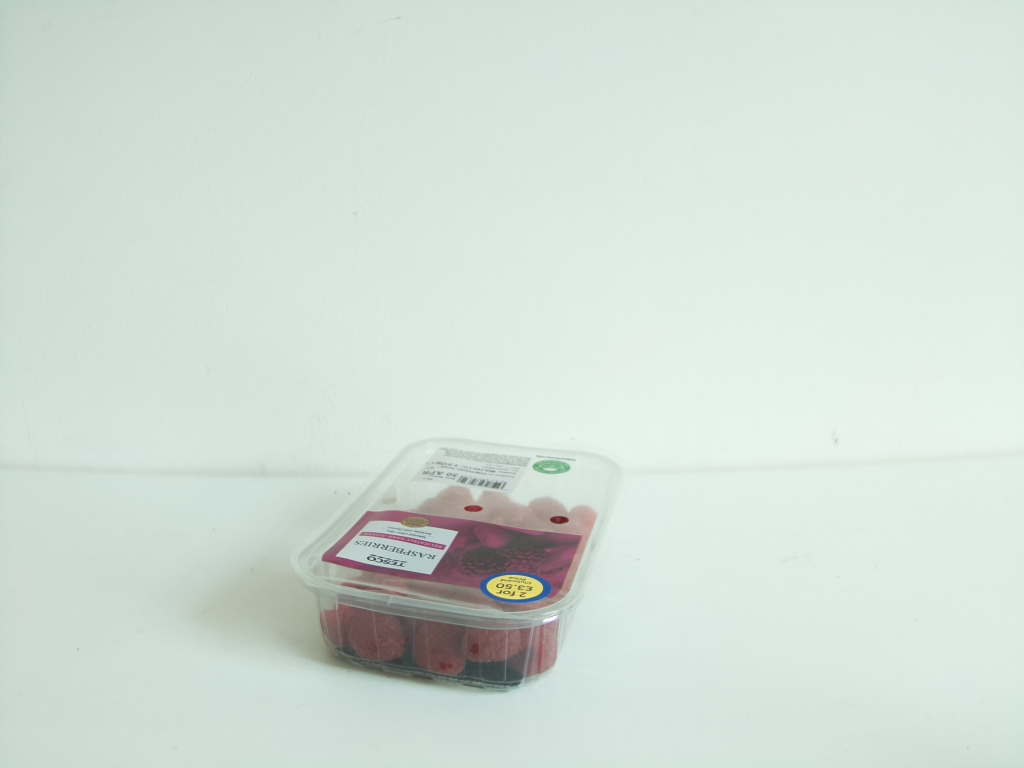soft-fruit: (298, 440, 624, 691)
